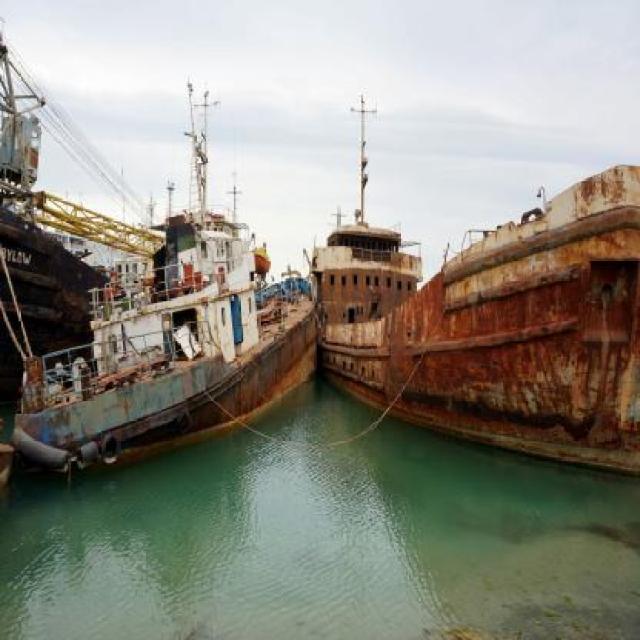corrosion: (307, 197, 640, 477), (0, 211, 322, 463)
